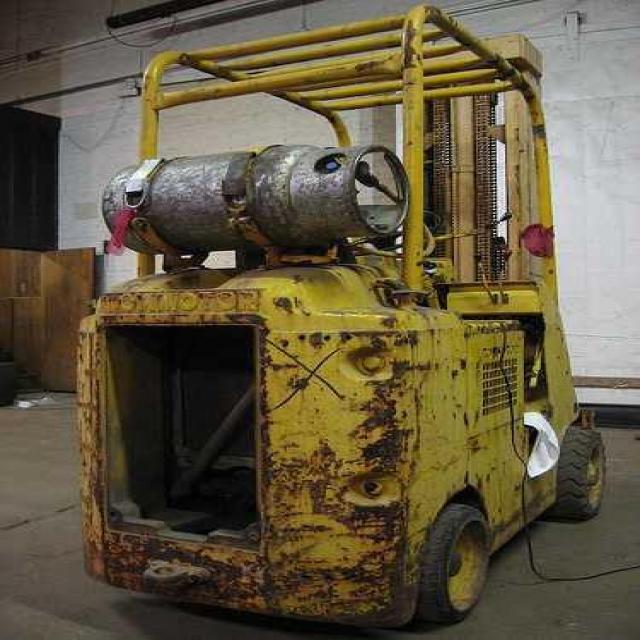Chariot elevateur: (27, 18, 601, 639)
